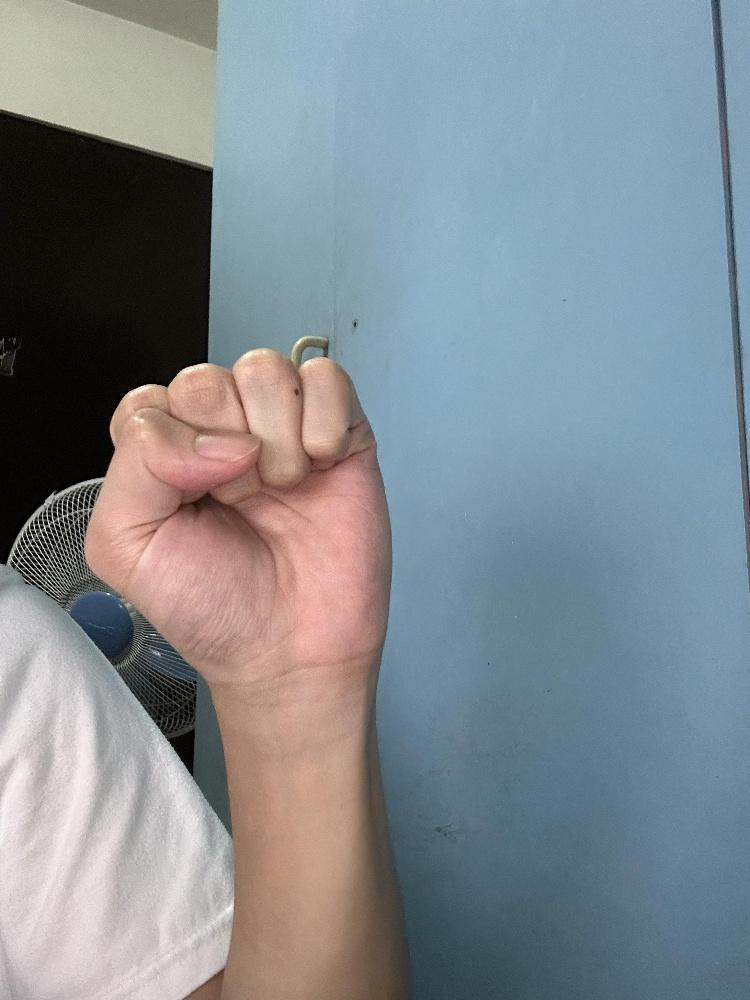s: (81, 344, 396, 695)
